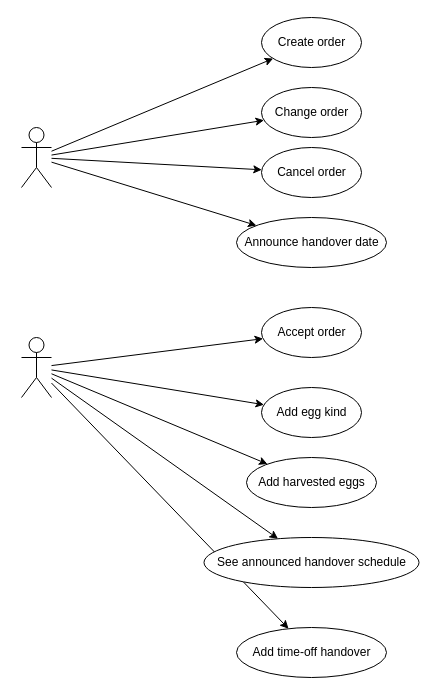
The diagram is 437 pixels wide and 695 high, and some of its shapes have lost their labels. The shapes that lost their labels are listed below. From the top down, each one's box as (x1, y1, x2, y2) in pixels, then its label:
(20, 126, 52, 188): Client
(20, 336, 52, 398): Farmer
